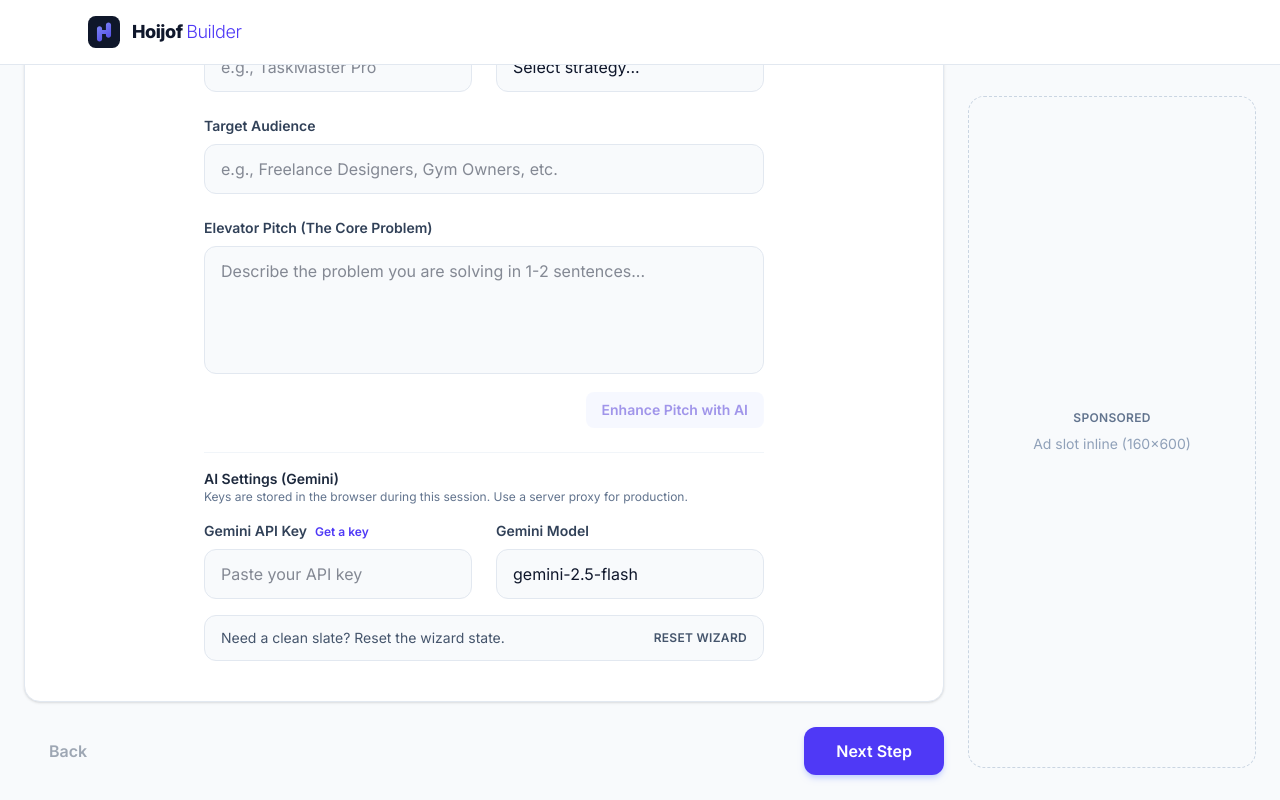
Test: Step 3 feature backlog › deletes a feature from the list
(page scrolled)
Step 1. Click the button "Next Step" → click(874, 751), box [804,727,944,775]
(page scrolled)
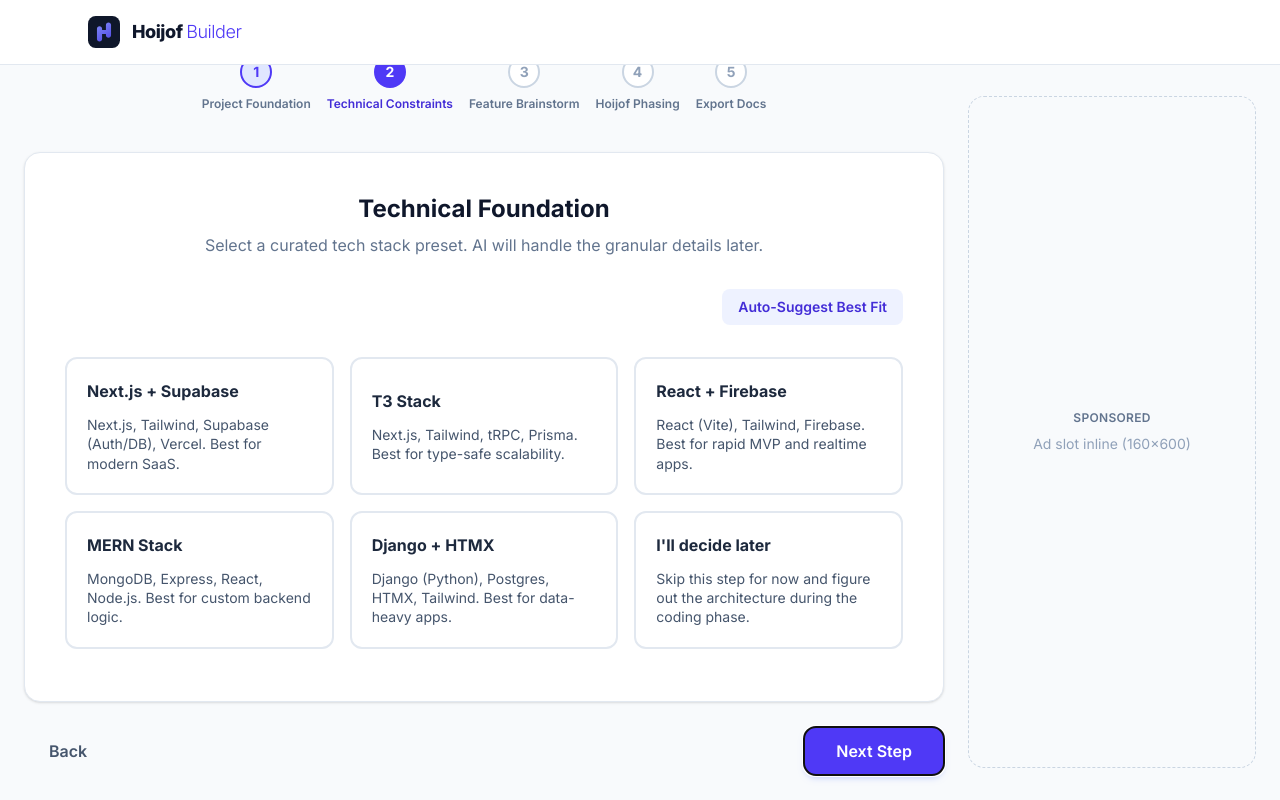
Step 2. Click the button "Next Step" → click(874, 751), box [804,727,944,775]
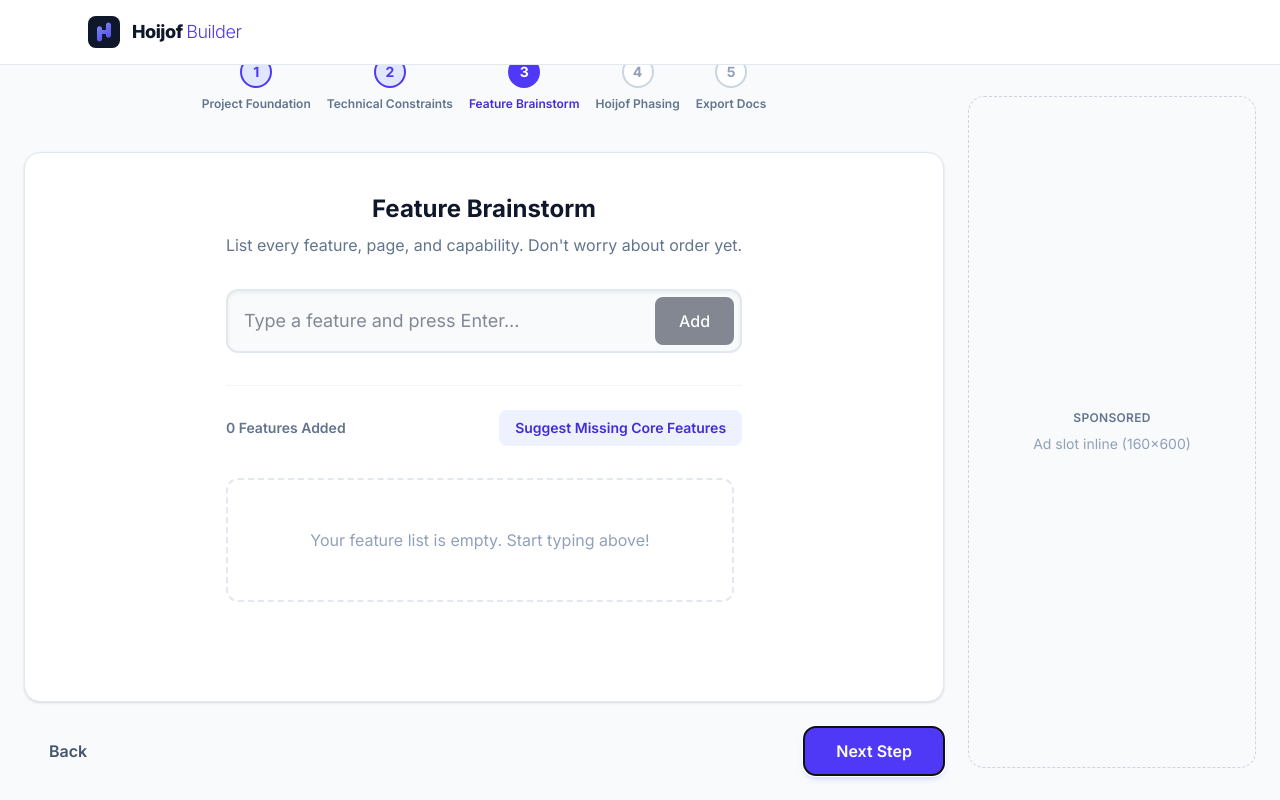
Step 3. Type "Dashboard" into the field with placeholder "Type a feature and press Enter..." → (484, 321), box [226,289,742,353]
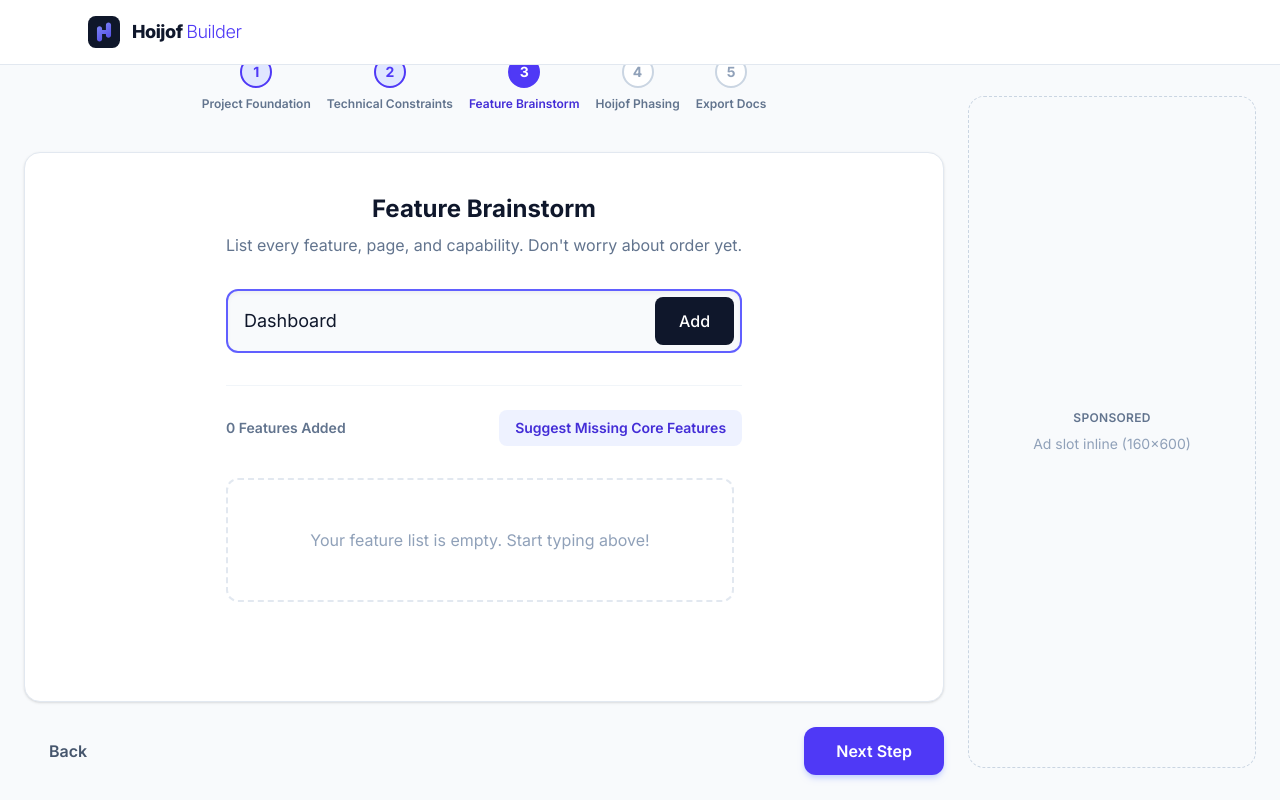
Step 4. Press Enter
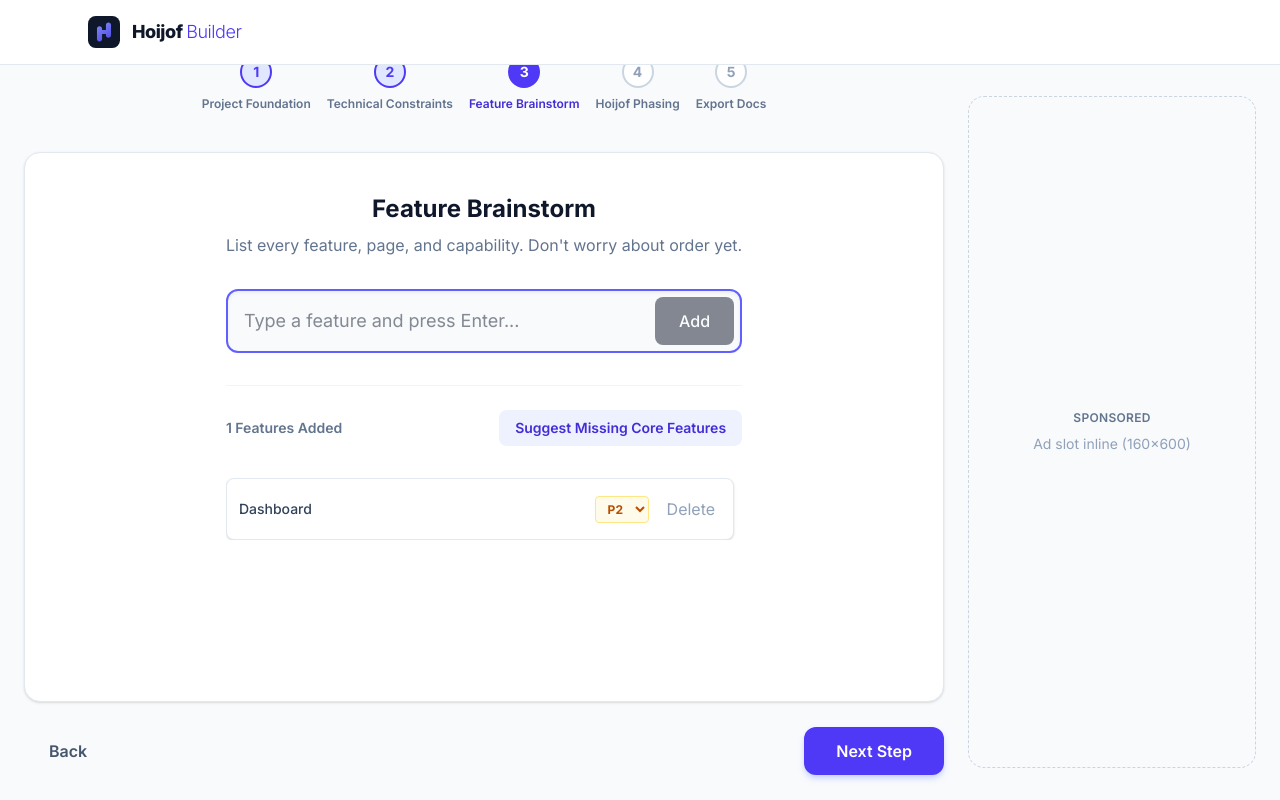
Step 5. Click the button with aria-label "Delete Dashboard" → click(691, 509), box [661,491,721,527]
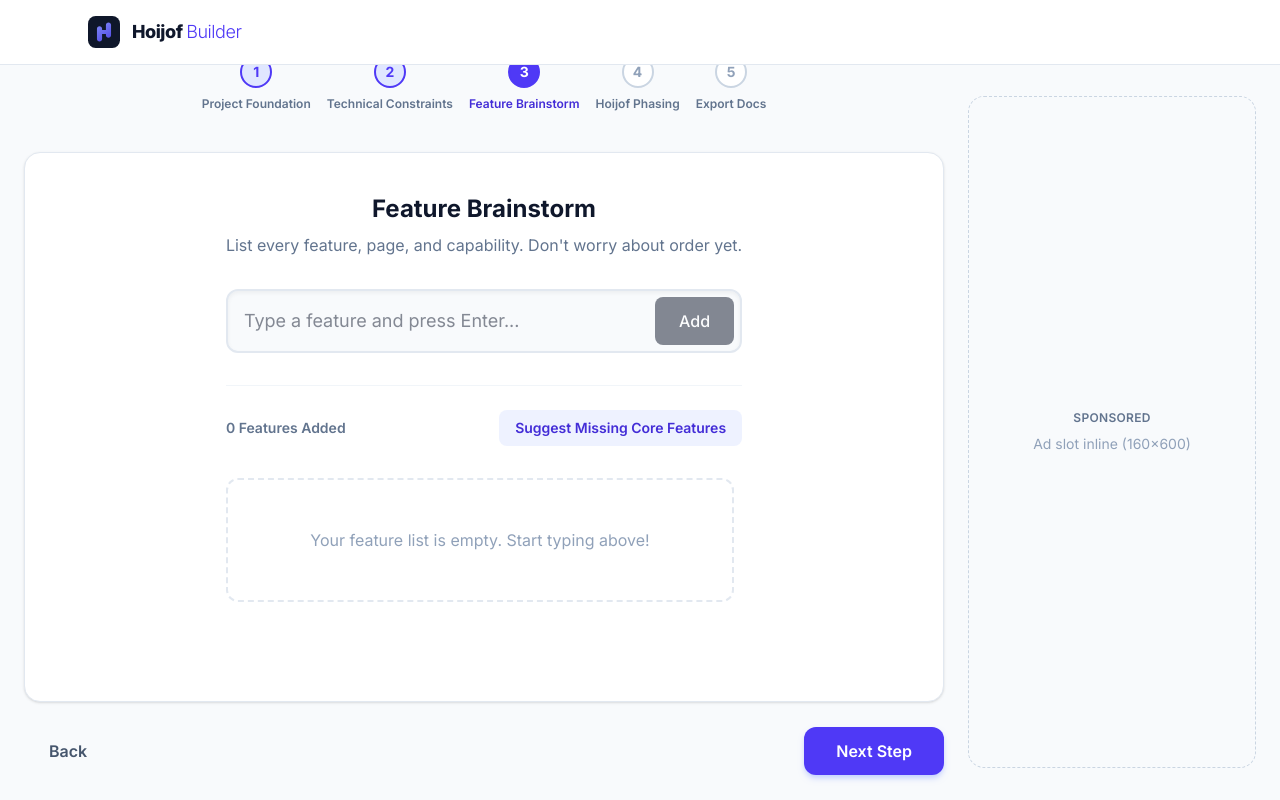
Expected: the text "Dashboard" is gone
